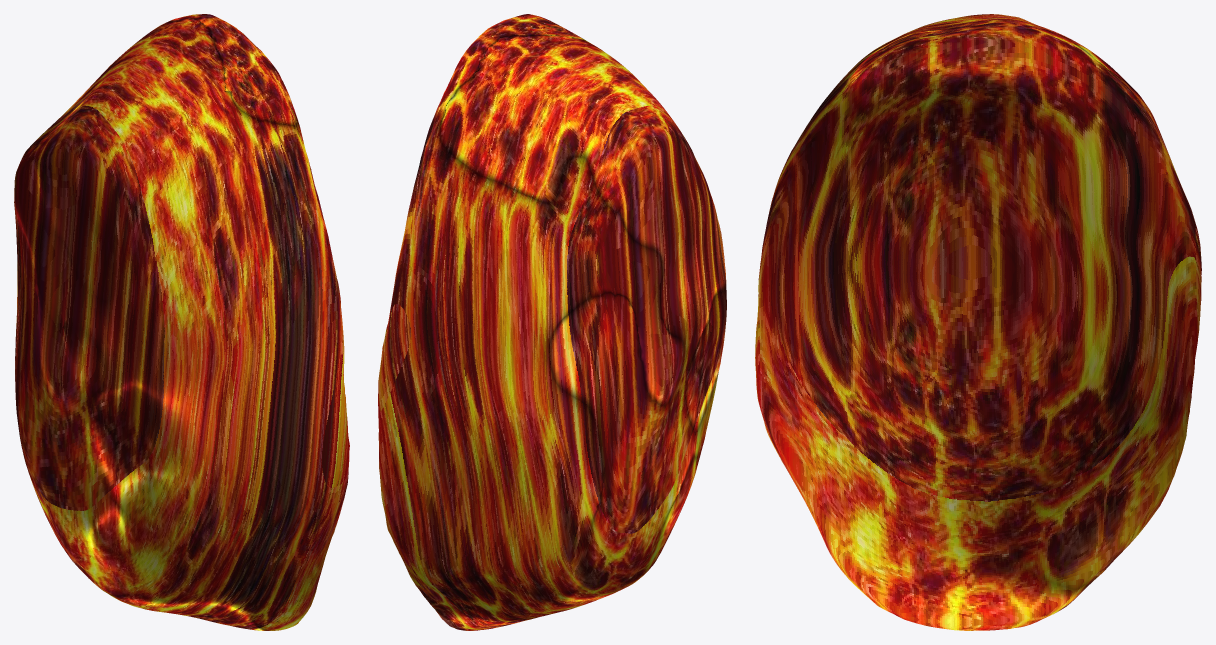
The picture shows the model from 3 angles, left to right: view 1: azimuth 30°, elevation 25°; view 2: azimuth 150°, elevation 25°; view 3: azimuth 270°, elevation 25°; orthographic projection.
Parts seen in each view (by area): view 1: Renderer Node; view 2: Renderer Node; view 3: Renderer Node.
Part boxes in pixels (box(x1,y1,x2,y2)): Renderer Node: box(14, 14, 349, 630); Renderer Node: box(378, 14, 726, 630); Renderer Node: box(755, 14, 1201, 630).
Size of the model in its own units: 0.1425 by 0.412 by 0.2784.
1 material, 1 textured.
